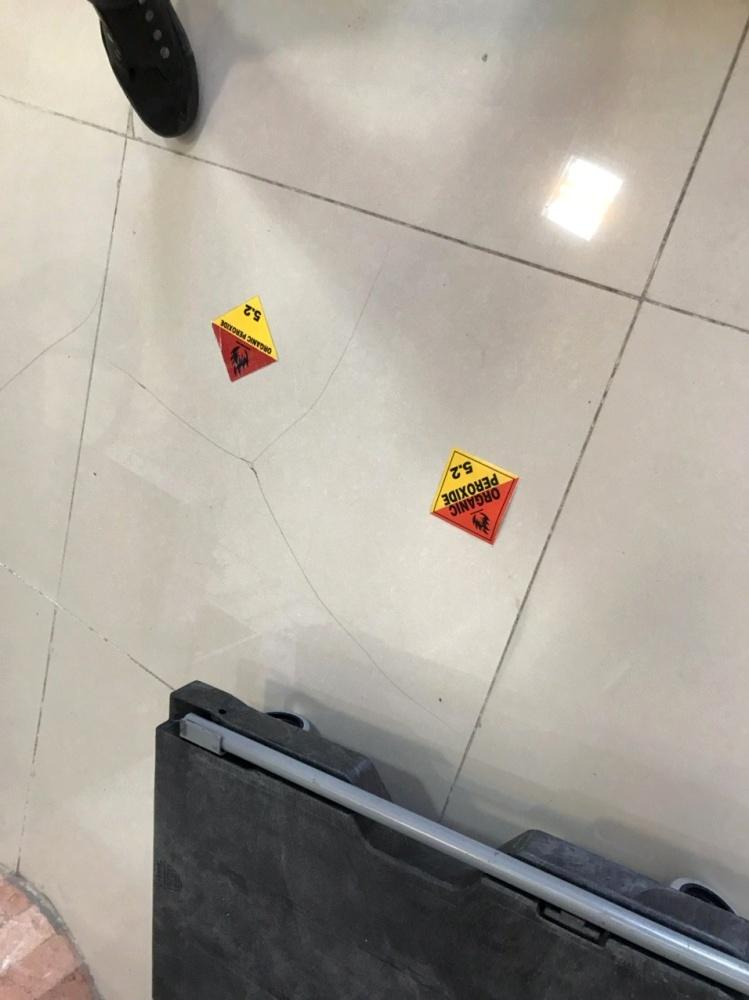organic-peroxide: (428, 446, 520, 549), (209, 295, 279, 384)
